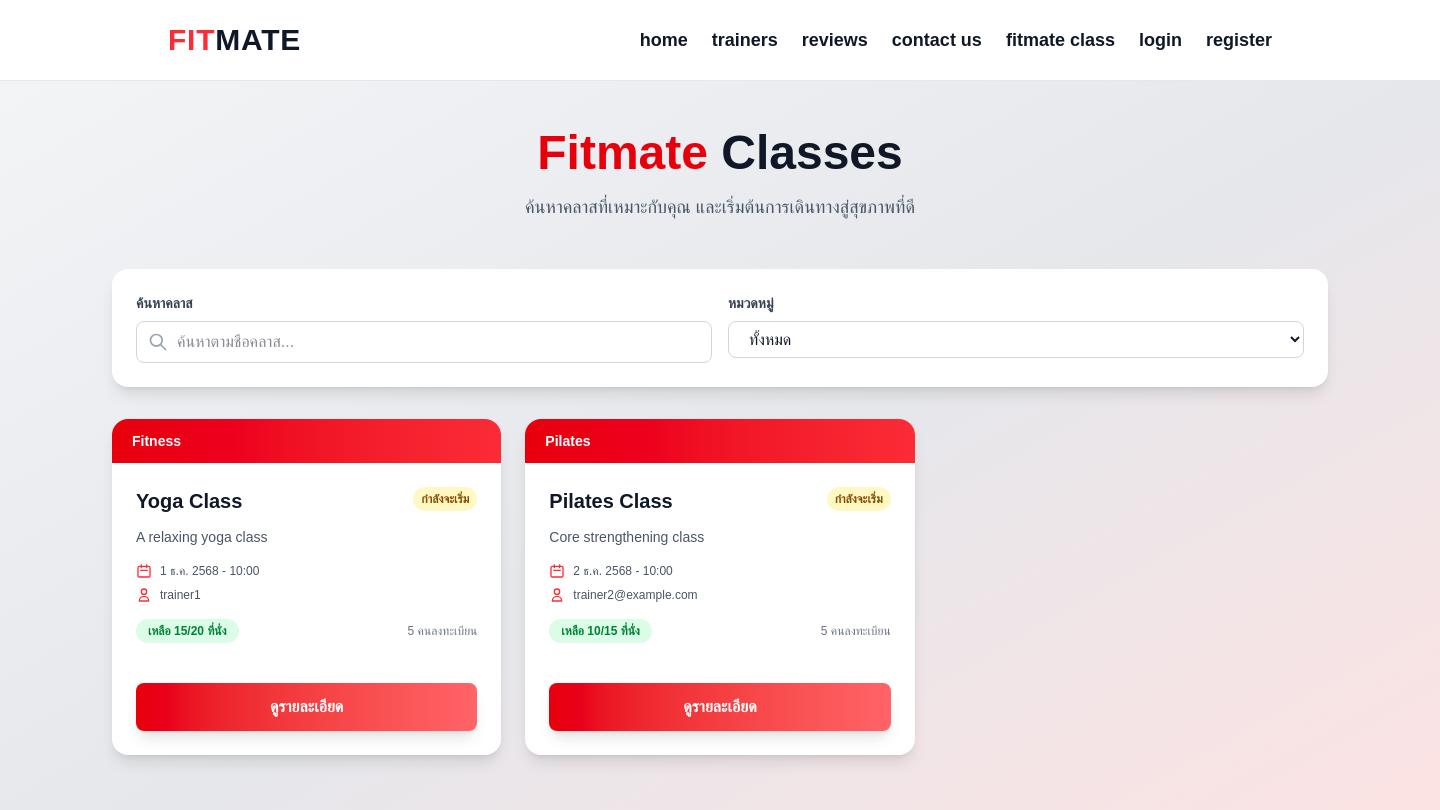
Test: ClassListPage › displays empty state when no classes match filter
Check: the heading "Yoga Class" is shown, box 136,490 -> 242,512
Step 1. Type "NonExistentClass" into the field with placeholder "ค้นหาตามชื่อคลาส..." → (424, 342), box 136,321 -> 712,363
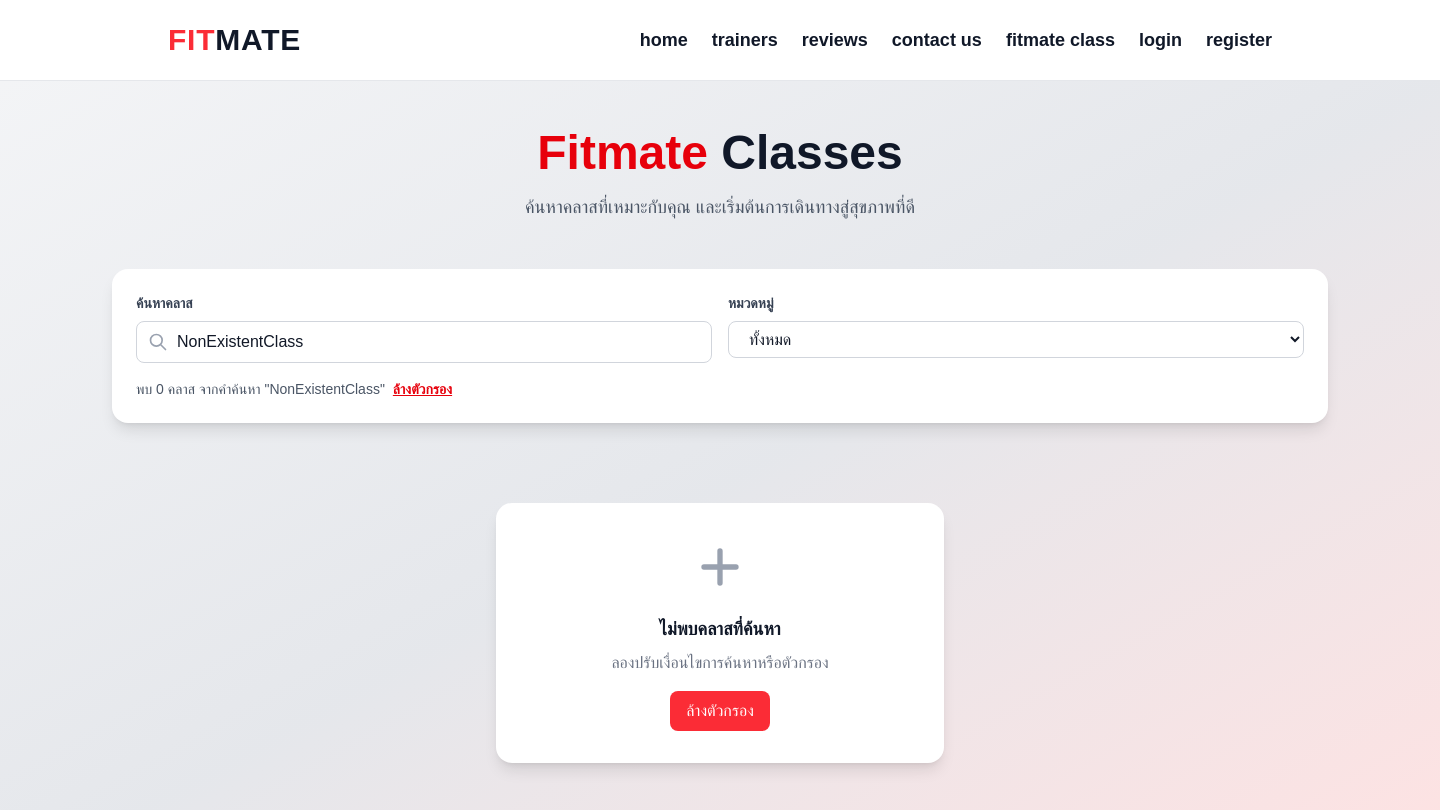
Check: the heading "Yoga Class" is gone
Check: the heading "Pilates Class" is gone
